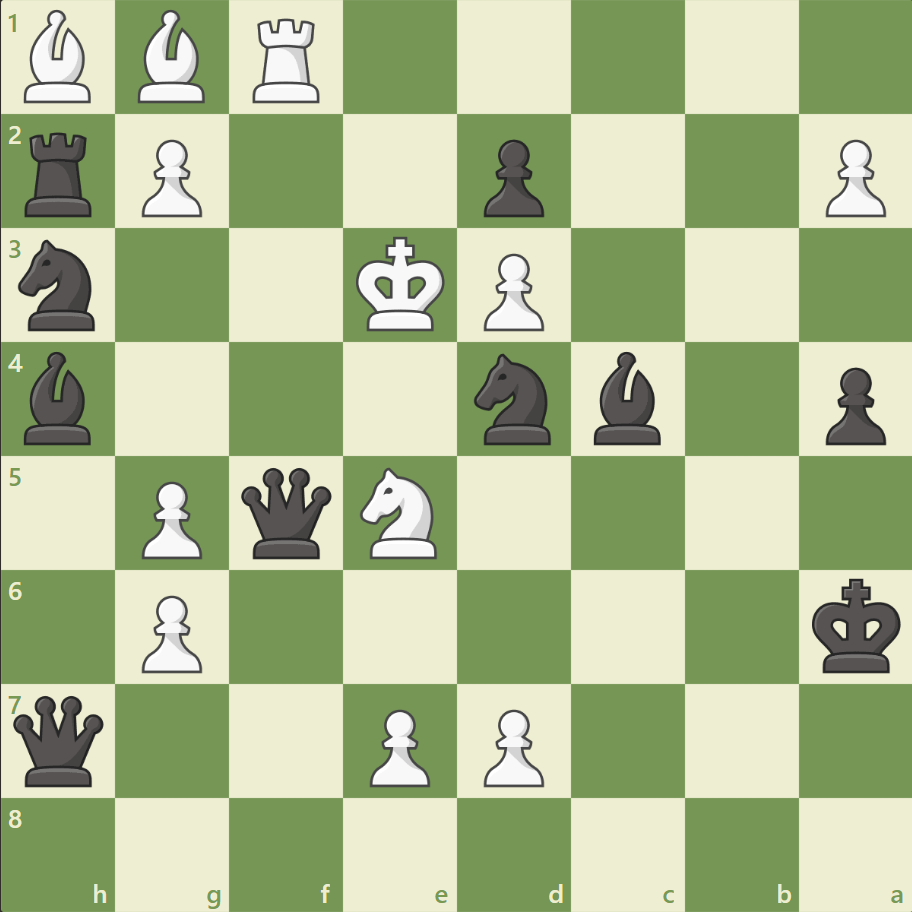B: (131, 6, 215, 109), (17, 6, 101, 109)
K: (351, 231, 451, 339)
N: (351, 461, 449, 564)
P: (474, 700, 549, 791), (133, 586, 208, 677), (133, 473, 208, 564), (474, 246, 549, 337), (133, 132, 208, 223), (361, 700, 435, 791), (815, 132, 889, 223)
R: (246, 12, 329, 109)
b: (585, 347, 669, 449), (17, 347, 101, 449)
k: (806, 571, 906, 679)
n: (11, 234, 108, 337), (465, 348, 562, 450)
p: (474, 132, 549, 223), (815, 359, 889, 450)
q: (10, 690, 109, 789), (237, 463, 336, 562)
r: (19, 125, 102, 222)
